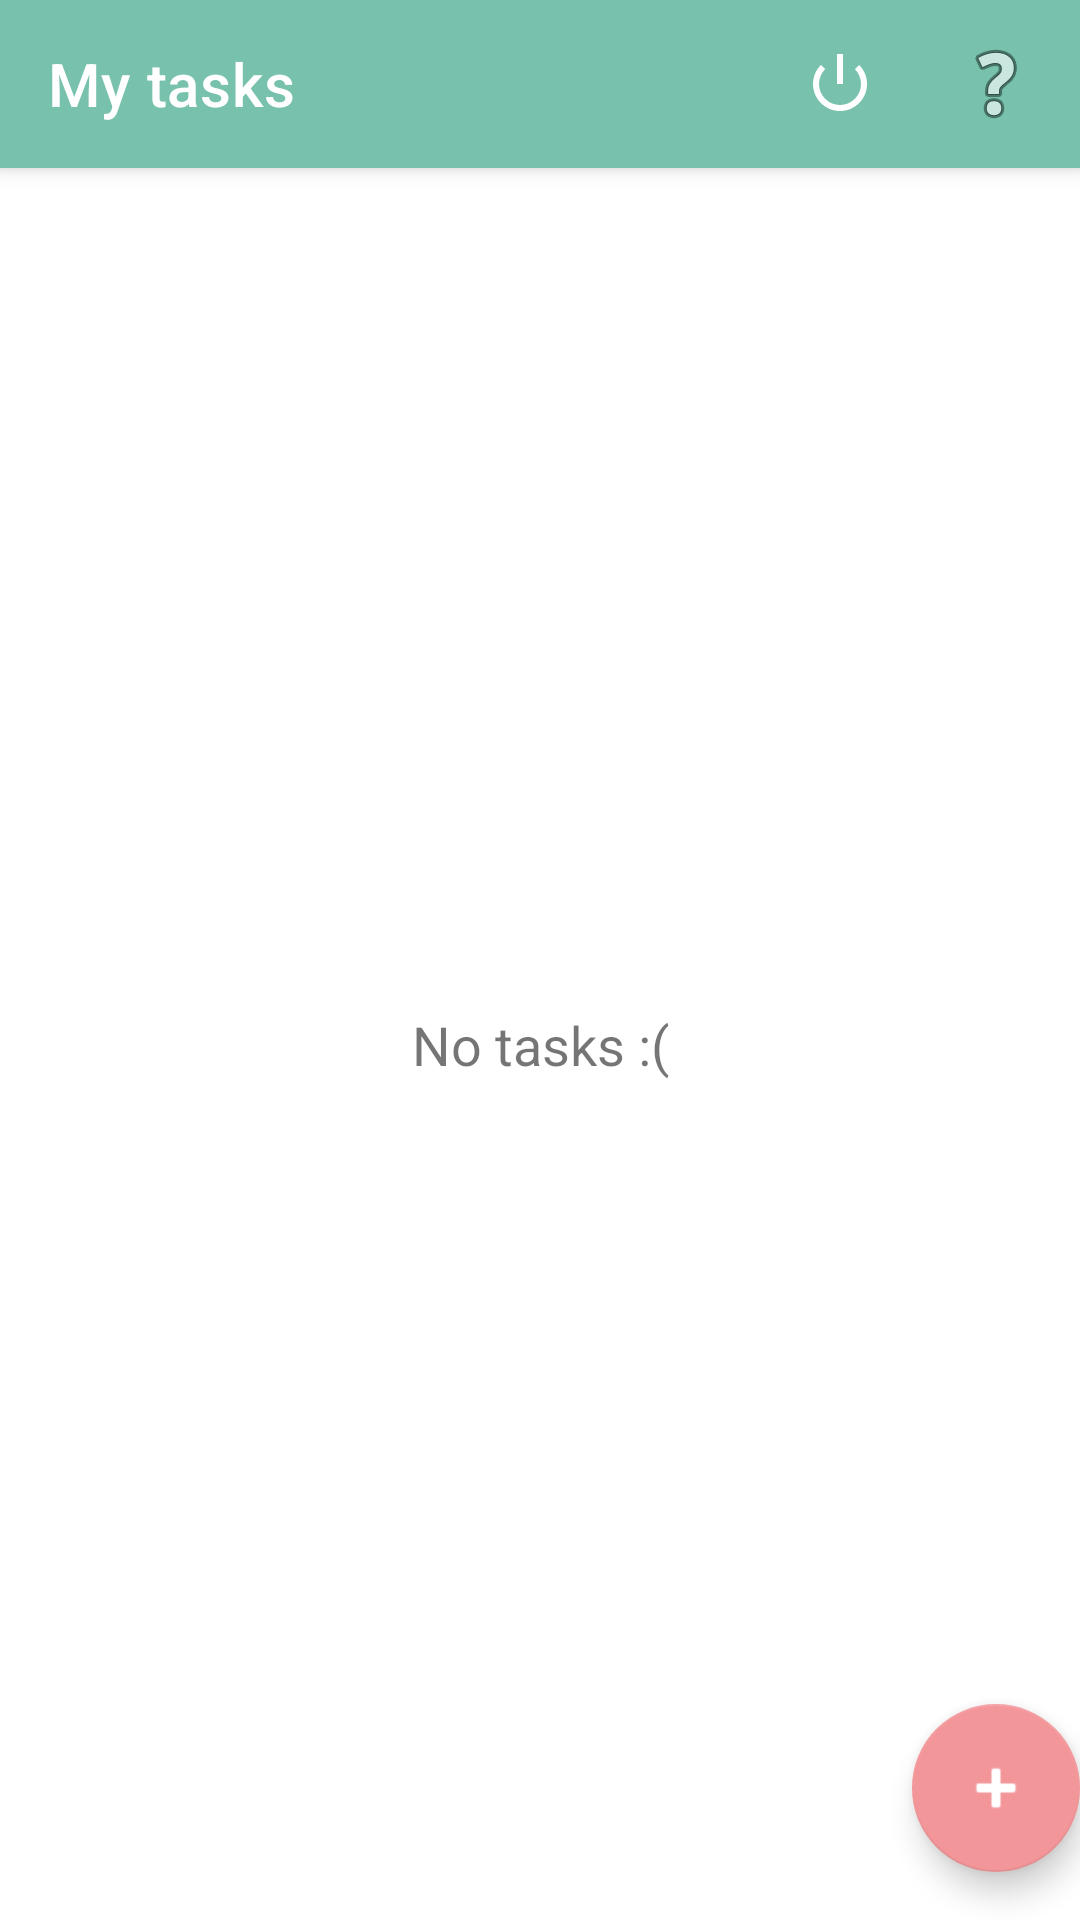

Named icons in this screenshot (1080*1920) and their bounding boxes, (x1, y1, x2, y2):
Add task: (912, 1704, 1080, 1872)
